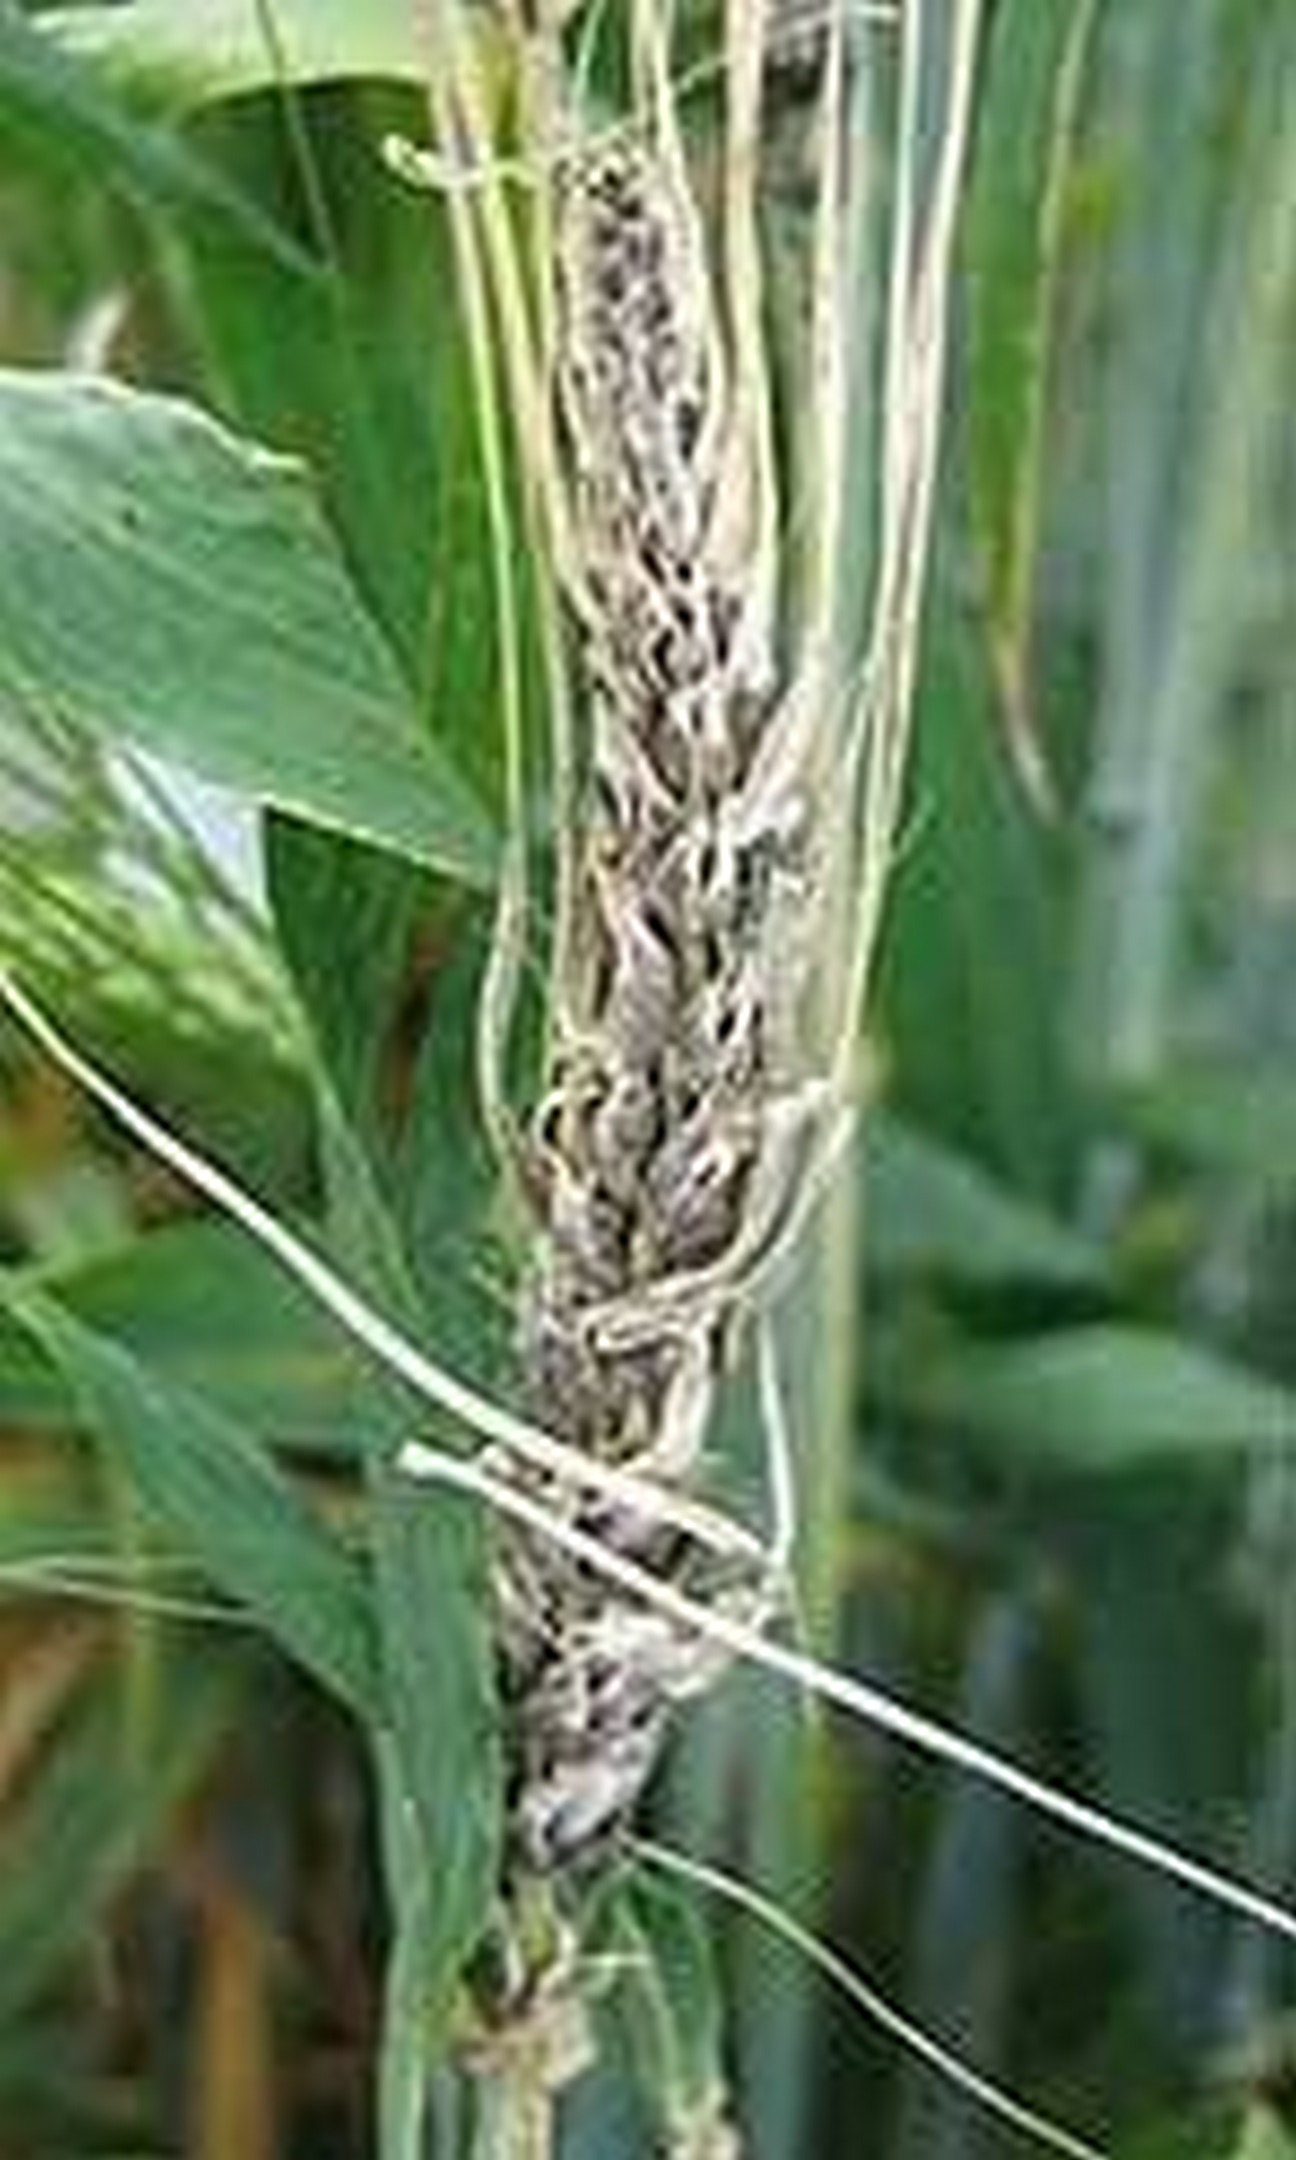Wheat Loose Smut: (420, 142, 812, 1822)
